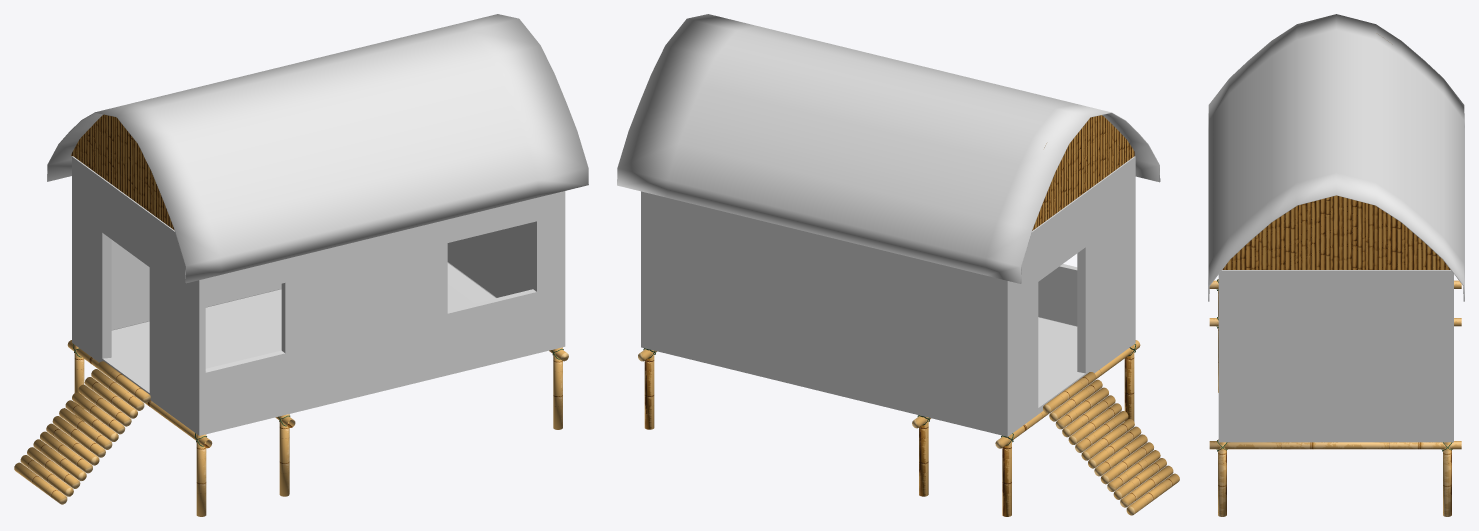
Rendered from house2.fbx.
3 views of the same model, side by side, from view 1: azimuth 30°, elevation 25°; view 2: azimuth 150°, elevation 25°; view 3: azimuth 270°, elevation 25° (orthographic). The views are drawn at different scales.
Parts seen in each view (by area): view 1: house-2; view 2: house-2; view 3: house-2.
Boxes of the visible parts, <box> form: house-2: <box>14,14,588,516</box>; house-2: <box>617,14,1179,516</box>; house-2: <box>1208,14,1464,516</box>.
Size of the model in its own units: 1515 by 1092 by 767.
